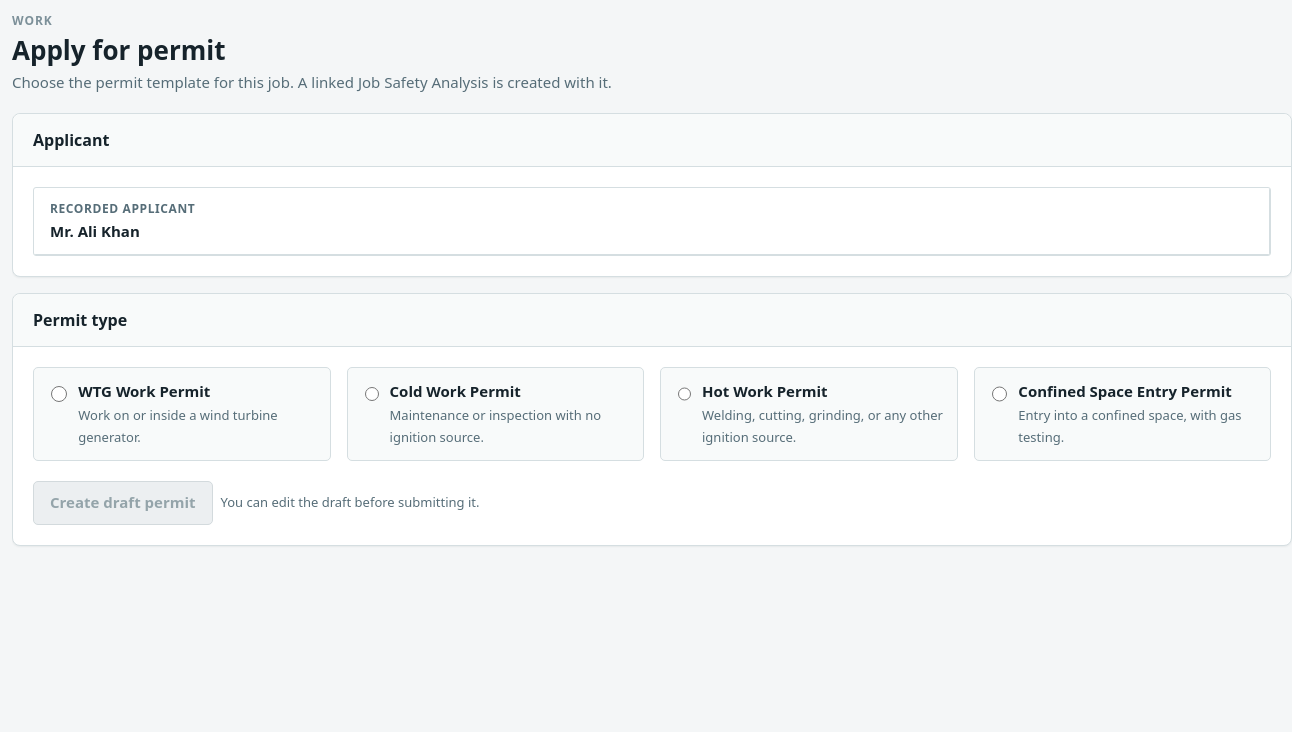
Test: failure › reports rate limiting as a wait, not an error the person caused
The width and height of the screenshot is (1292, 732).
Click the radio button labelled "WTG Work Permit Work on or inside a wind turbine generator." at (59, 394), box left=51, top=385, right=67, bottom=403
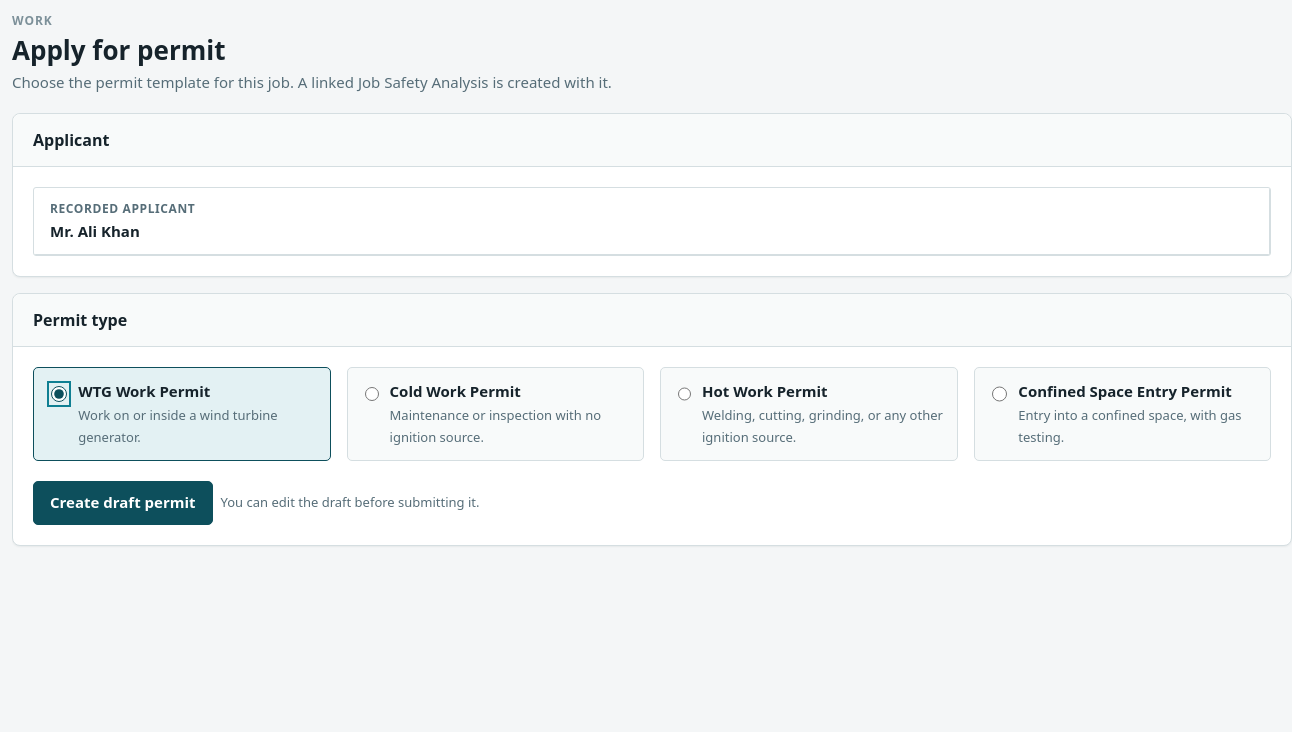
Click the button "Create draft permit" at (123, 503), box left=33, top=481, right=212, bottom=525
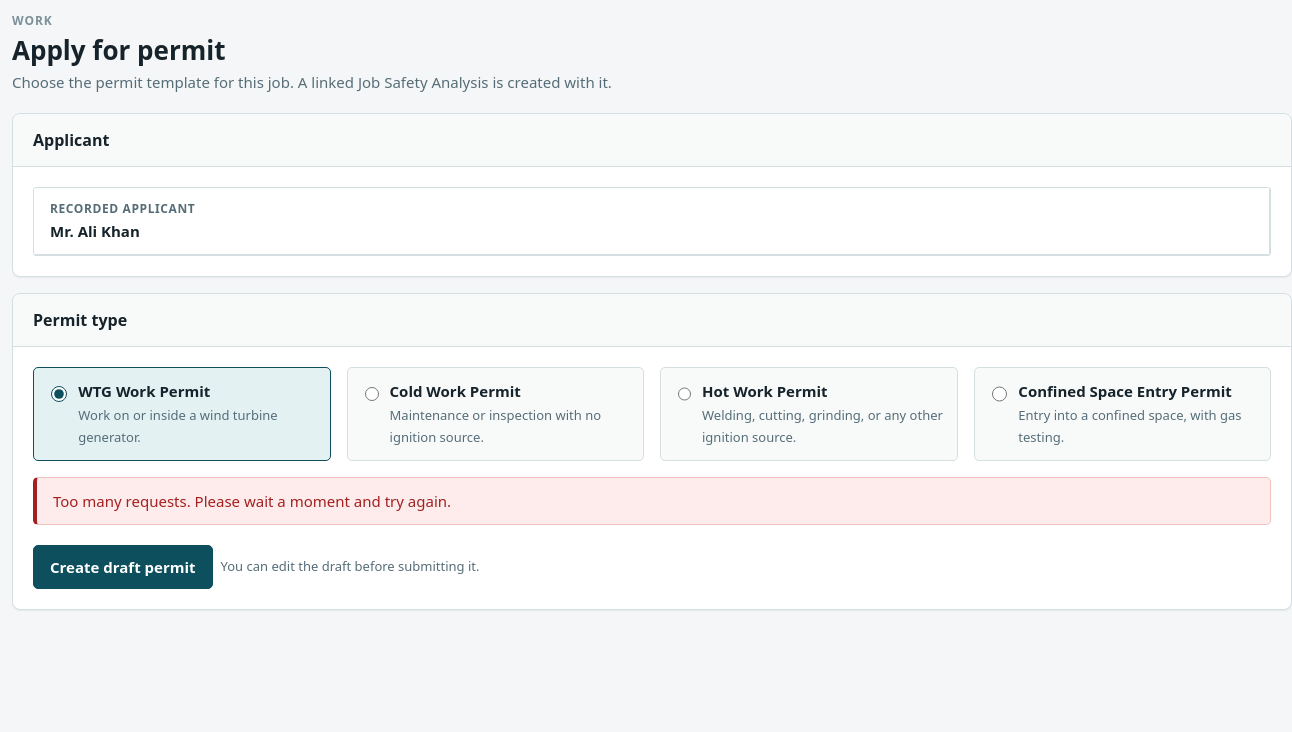
Expected: the message shows "Too many requests", left=53, top=491, right=451, bottom=511
